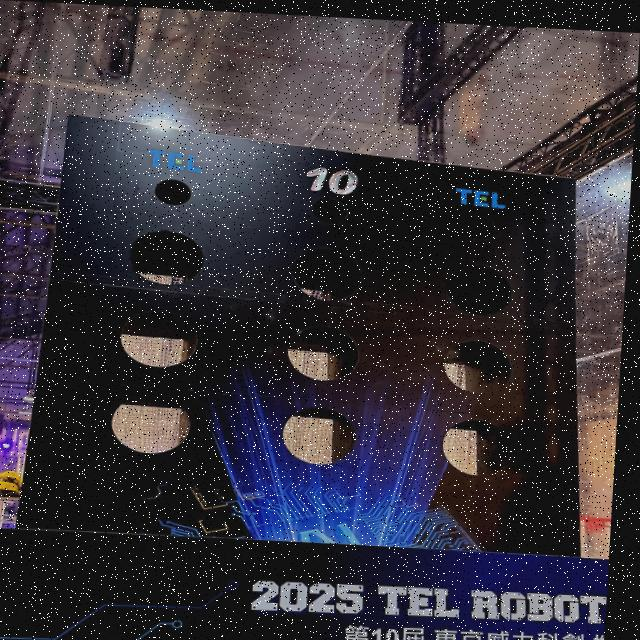hole: (111, 394, 192, 455), (281, 405, 358, 468), (121, 308, 200, 369), (440, 417, 516, 478), (129, 228, 206, 286), (286, 324, 361, 382), (441, 339, 514, 396), (292, 246, 365, 302), (444, 262, 514, 317), (154, 178, 192, 206), (312, 198, 349, 224), (461, 216, 498, 242)
